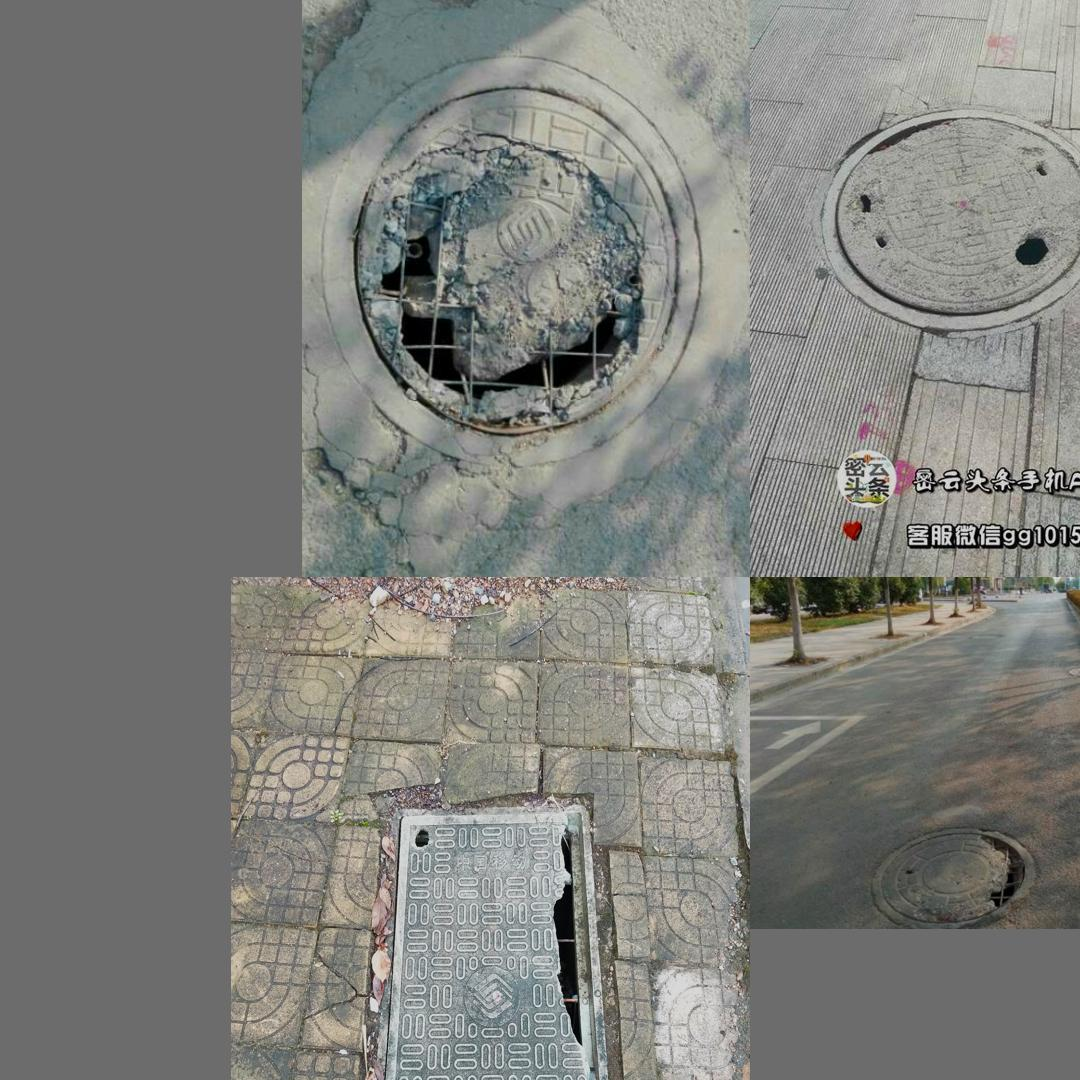broke: (321, 55, 700, 463), (800, 84, 1080, 340), (374, 805, 622, 1080), (869, 825, 1035, 929)
